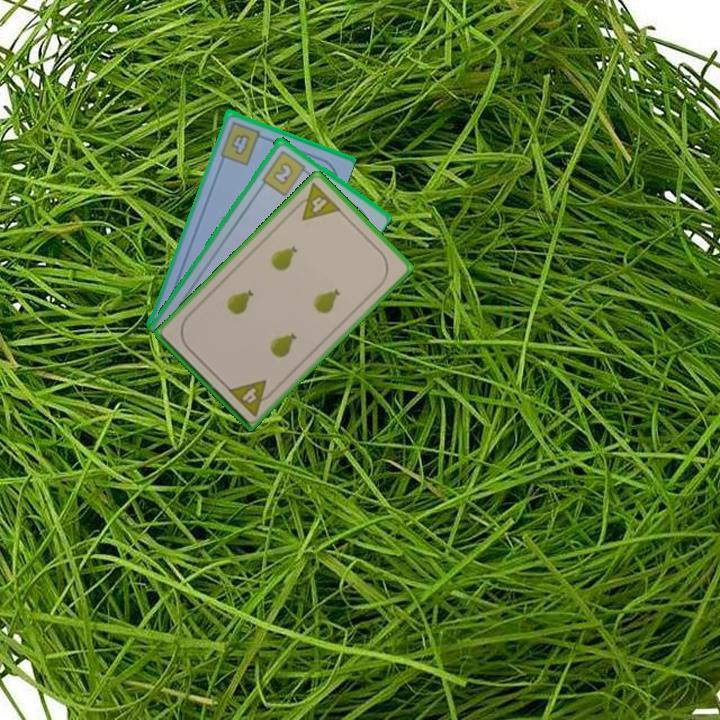2b: (258, 147, 312, 198)
4b: (216, 117, 268, 167)
4p: (289, 179, 344, 223), (224, 376, 278, 419)
